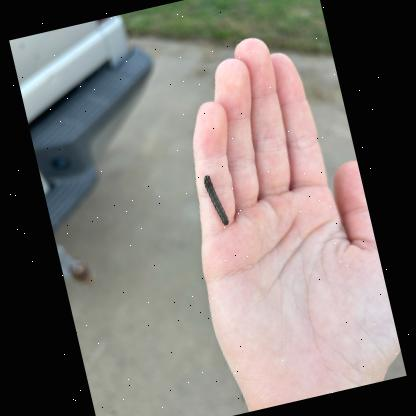Fall Armyworm Larvae: (202, 171, 232, 230)
